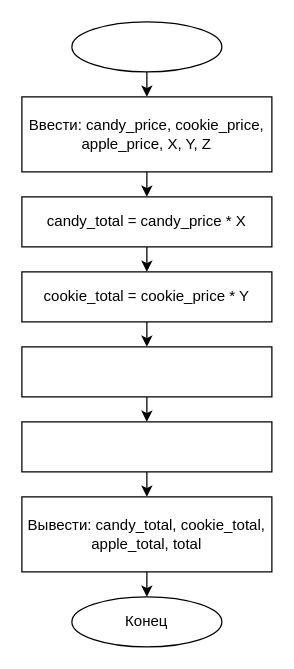
Image size: 294x669. Some labels were removed from this diagram. Each missing label, with the centre of its shape:
"apple_total = apple_price * Z" belongs at point 146,371.
"total = candy_total + cookie_total + apple_total" belongs at point 146,446.
"Начало" belongs at point 146,46.
